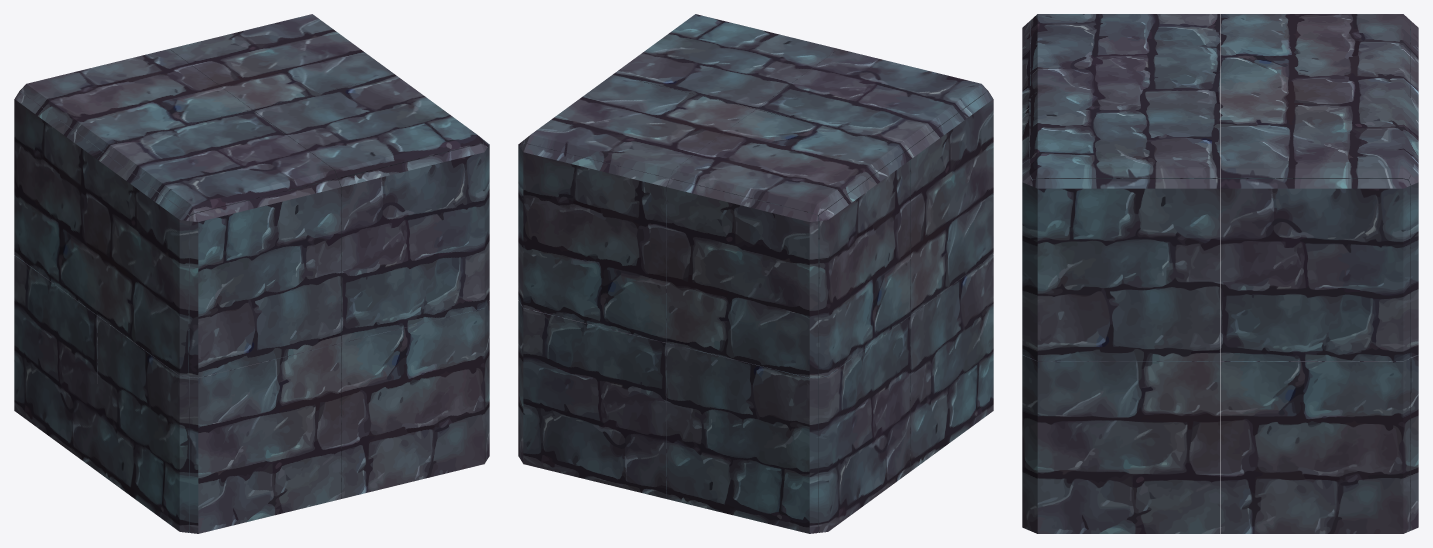
File: rock_to_break_Pieces.glb
3 views of the same model, side by side, from view 1: azimuth 30°, elevation 25°; view 2: azimuth 150°, elevation 25°; view 3: azimuth 270°, elevation 25° (orthographic). The views are drawn at different scales.
Visible parts, largest first — view 1: Rock_breakable_cell.016, Rock_breakable_cell.007, Rock_breakable_cell.018, Rock_breakable_cell.009, Rock_breakable_cell.015, Rock_breakable_cell.019, Rock_breakable_cell.017, Rock_breakable_cell.011, Rock_breakable_cell.006, Rock_breakable_cell.013, Rock_breakable_cell.012, Rock_breakable_cell.001; view 2: Rock_breakable_cell.010, Rock_breakable_cell, Rock_breakable_cell.014, Rock_breakable_cell.003, Rock_breakable_cell.011, Rock_breakable_cell.013, Rock_breakable_cell.015, Rock_breakable_cell.012, Rock_breakable_cell.019, Rock_breakable_cell.001, Rock_breakable_cell.017, Rock_breakable_cell.006; view 3: Rock_breakable_cell.005, Rock_breakable_cell.002, Rock_breakable_cell.004, Rock_breakable_cell.008, Rock_breakable_cell.001, Rock_breakable_cell.006, Rock_breakable_cell.012, Rock_breakable_cell.017, Rock_breakable_cell, Rock_breakable_cell.007, Rock_breakable_cell.003, Rock_breakable_cell.009 (+2 smaller).
Part boxes in pixels (left/top/right/bottom): Rock_breakable_cell.016: left=189, top=178, right=341, bottom=377; Rock_breakable_cell.007: left=338, top=144, right=486, bottom=342; Rock_breakable_cell.018: left=189, top=343, right=341, bottom=533; Rock_breakable_cell.009: left=341, top=304, right=486, bottom=498; Rock_breakable_cell.015: left=97, top=152, right=189, bottom=376; Rock_breakable_cell.019: left=97, top=315, right=189, bottom=532; Rock_breakable_cell.017: left=103, top=109, right=337, bottom=215; Rock_breakable_cell.011: left=14, top=91, right=102, bottom=314; Rock_breakable_cell.006: left=252, top=74, right=483, bottom=178; Rock_breakable_cell.013: left=14, top=255, right=97, bottom=470; Rock_breakable_cell.012: left=20, top=49, right=251, bottom=154; Rock_breakable_cell.001: left=170, top=14, right=394, bottom=109; Rock_breakable_cell.010: left=666, top=179, right=818, bottom=377; Rock_breakable_cell: left=521, top=143, right=669, bottom=342; Rock_breakable_cell.014: left=666, top=343, right=818, bottom=533; Rock_breakable_cell.003: left=521, top=304, right=666, bottom=498; Rock_breakable_cell.011: left=818, top=152, right=910, bottom=376; Rock_breakable_cell.013: left=818, top=316, right=910, bottom=532; Rock_breakable_cell.015: left=905, top=91, right=993, bottom=314; Rock_breakable_cell.012: left=670, top=109, right=904, bottom=215; Rock_breakable_cell.019: left=910, top=255, right=993, bottom=470; Rock_breakable_cell.001: left=524, top=74, right=755, bottom=178; Rock_breakable_cell.017: left=756, top=49, right=987, bottom=154; Rock_breakable_cell.006: left=613, top=14, right=838, bottom=109; Rock_breakable_cell.005: left=1030, top=179, right=1220, bottom=361; Rock_breakable_cell.002: left=1220, top=179, right=1410, bottom=360; Rock_breakable_cell.004: left=1220, top=358, right=1410, bottom=533; Rock_breakable_cell.008: left=1030, top=358, right=1220, bottom=533; Rock_breakable_cell.001: left=1220, top=91, right=1410, bottom=179; Rock_breakable_cell.006: left=1030, top=91, right=1220, bottom=179; Rock_breakable_cell.012: left=1220, top=14, right=1410, bottom=97; Rock_breakable_cell.017: left=1030, top=14, right=1220, bottom=97; Rock_breakable_cell: left=1407, top=98, right=1418, bottom=357; Rock_breakable_cell.007: left=1022, top=99, right=1032, bottom=357; Rock_breakable_cell.003: left=1410, top=355, right=1418, bottom=530; Rock_breakable_cell.009: left=1022, top=355, right=1029, bottom=530.
Size of the model in its own units: 2 by 2 by 2.
Materials: 1 (1 with a texture image).
